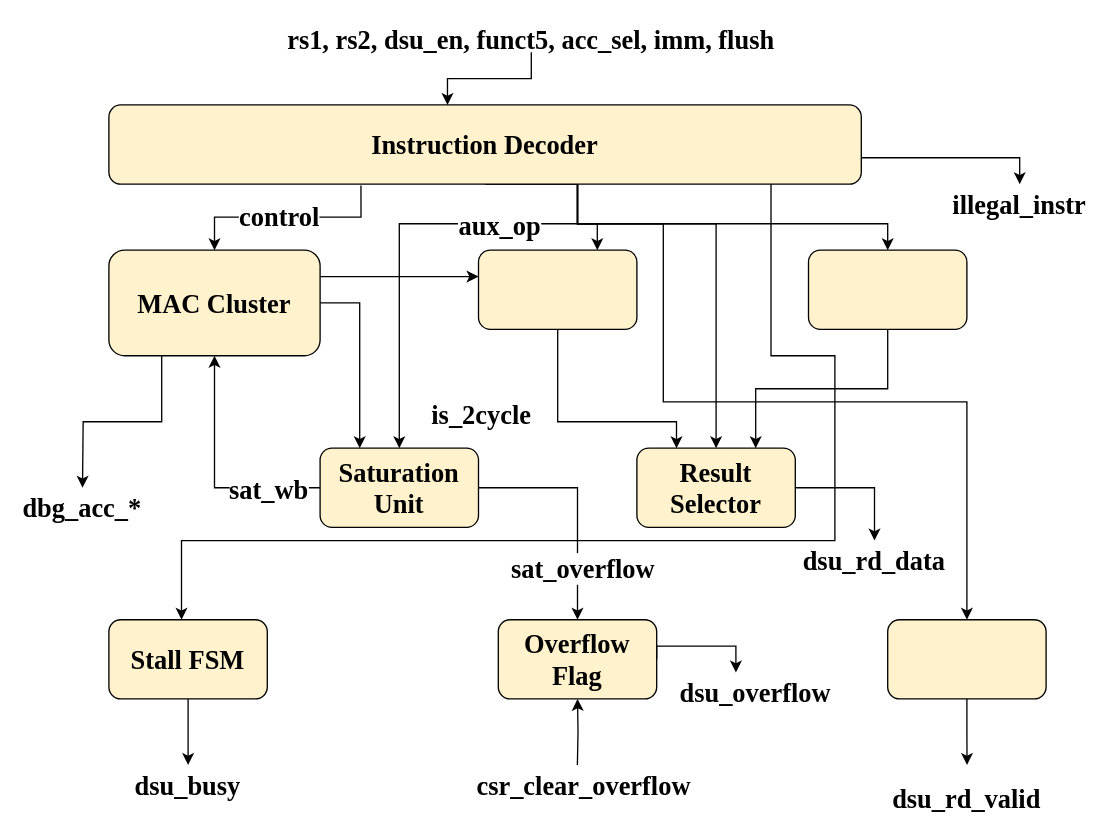
Image size: 1109x840. Some labels were removed from this diagram. Each missing label, with the box of its shape:
Barrel Shifter: (477, 249, 637, 329)
rd_valid decode: (886, 618, 1046, 699)
Read-back Mux: (807, 249, 967, 329)
